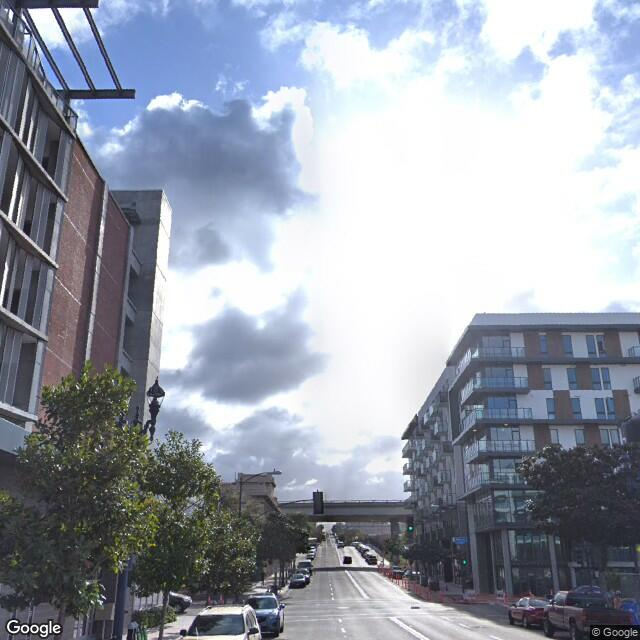light: (145, 374, 163, 416)
window: (484, 399, 520, 422), (594, 397, 615, 418), (546, 395, 558, 422)
